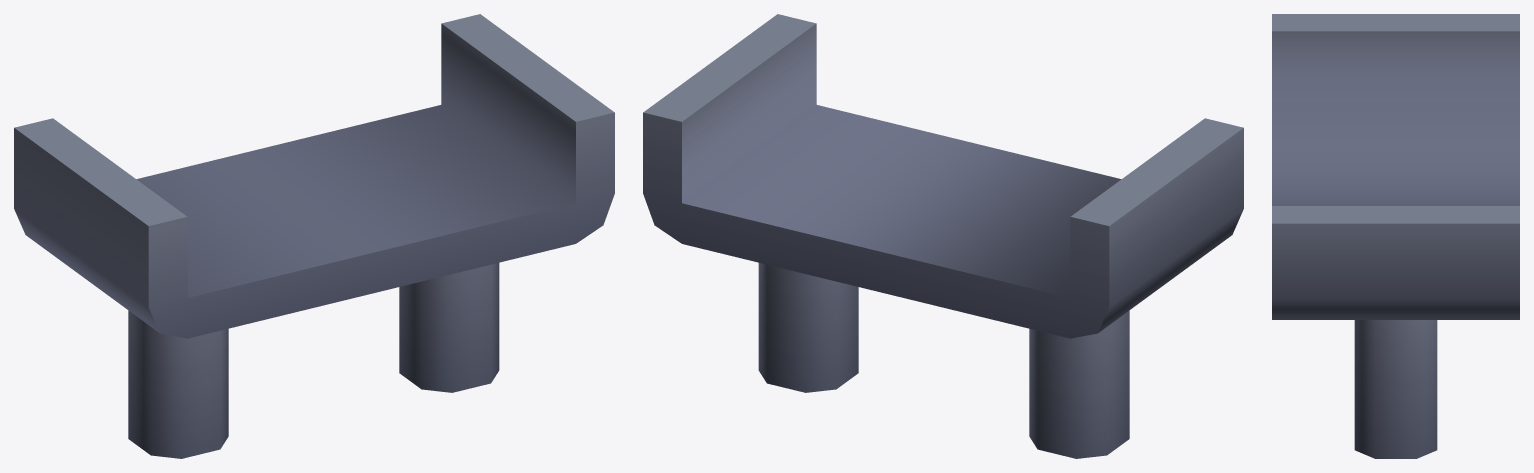
The model's file is kenney-marble-support-two-top.glb.
3 views of the same model, side by side, from view 1: azimuth 30°, elevation 25°; view 2: azimuth 150°, elevation 25°; view 3: azimuth 270°, elevation 25° (orthographic). The views are drawn at different scales.
Visible parts, largest first — view 1: support-two-top; view 2: support-two-top; view 3: support-two-top.
Boxes of the visible parts, x1=… form: support-two-top: x1=14, y1=14, x2=614, y2=458; support-two-top: x1=643, y1=14, x2=1243, y2=458; support-two-top: x1=1272, y1=14, x2=1519, y2=458.
Size of the model in its own units: 1.2 by 0.7 by 0.6001.
1 material, 1 textured.
